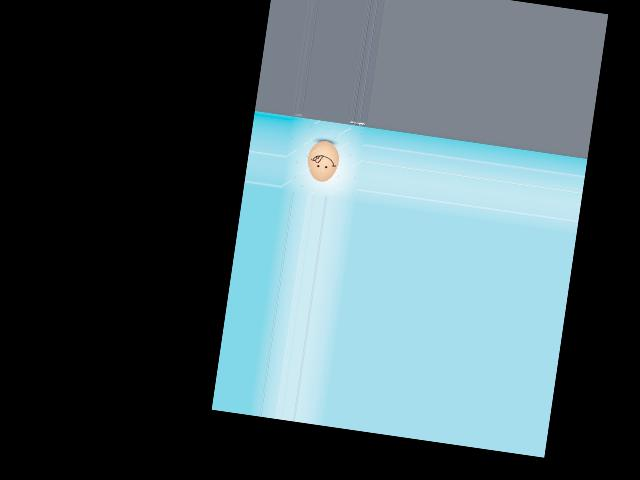egg: (304, 138, 341, 183)
